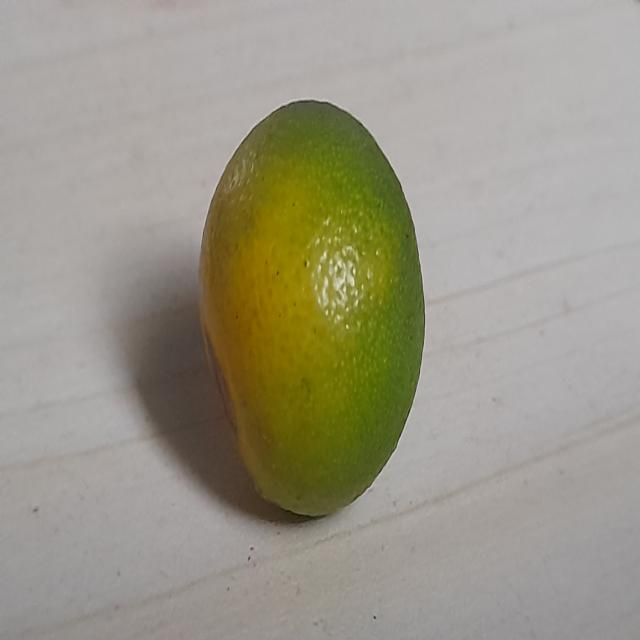greening: (192, 98, 426, 526)
